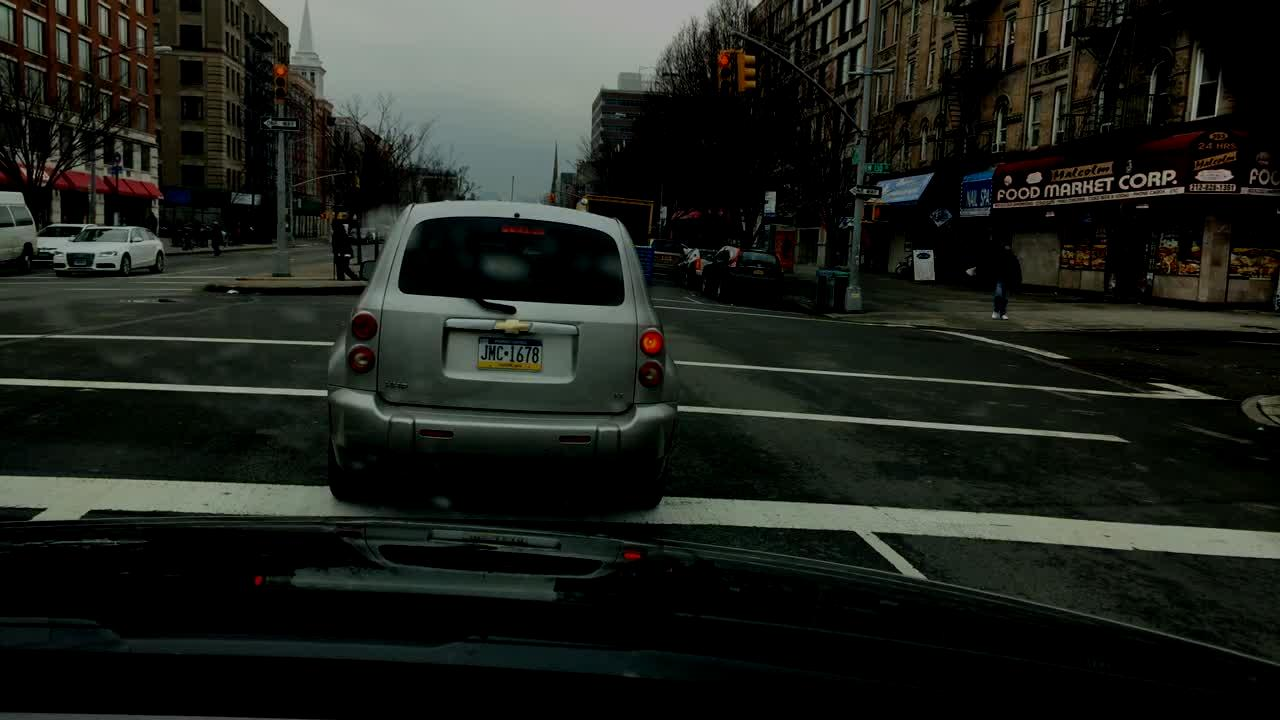chevrolet: (489, 312, 540, 342)
